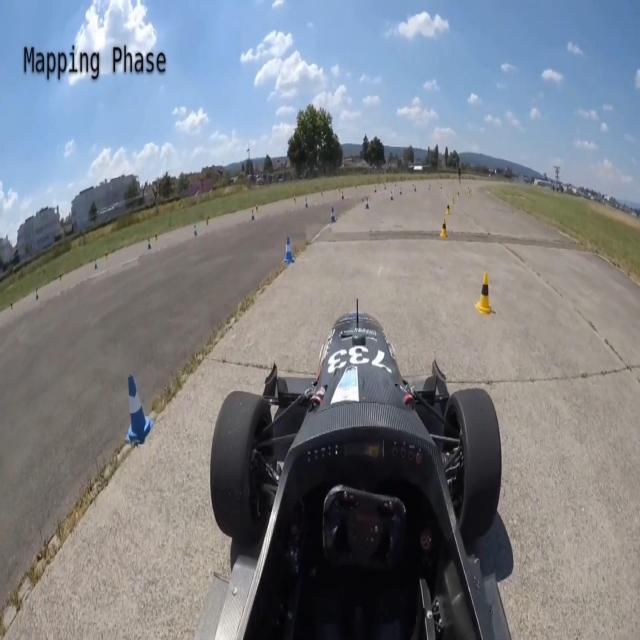blue_cone: (125, 371, 152, 448), (284, 237, 296, 267), (329, 207, 336, 224), (364, 197, 370, 211), (193, 225, 198, 238), (304, 196, 309, 209), (251, 209, 255, 222), (148, 238, 152, 250), (35, 289, 39, 301), (94, 259, 98, 270), (390, 192, 393, 200), (400, 188, 402, 196), (342, 192, 344, 200)
yellow_cone: (474, 270, 492, 312), (440, 220, 448, 238), (446, 204, 451, 215), (105, 250, 109, 263), (9, 299, 13, 312), (60, 272, 64, 284), (320, 189, 324, 200), (294, 194, 298, 204), (254, 204, 258, 214), (452, 196, 455, 205), (456, 189, 459, 198), (155, 232, 158, 240), (338, 186, 341, 194), (206, 217, 208, 226)
